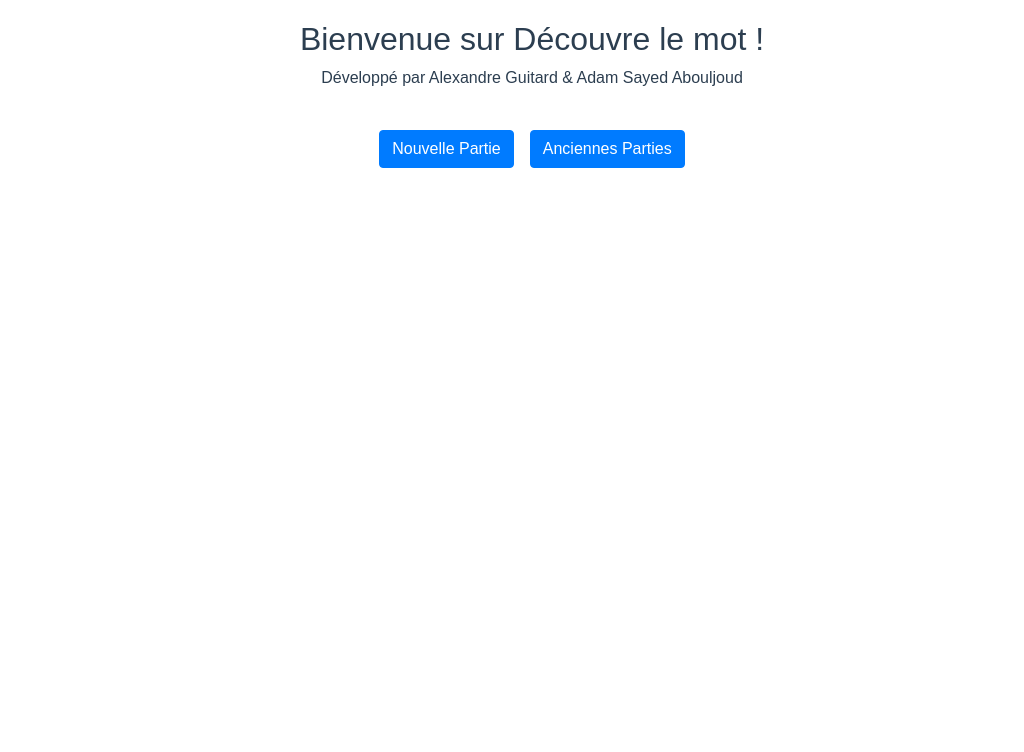
Make sure our todo list app is working well › Should show a defeat page
Click the button with id "newGame": (447, 149) [379, 130, 514, 168]
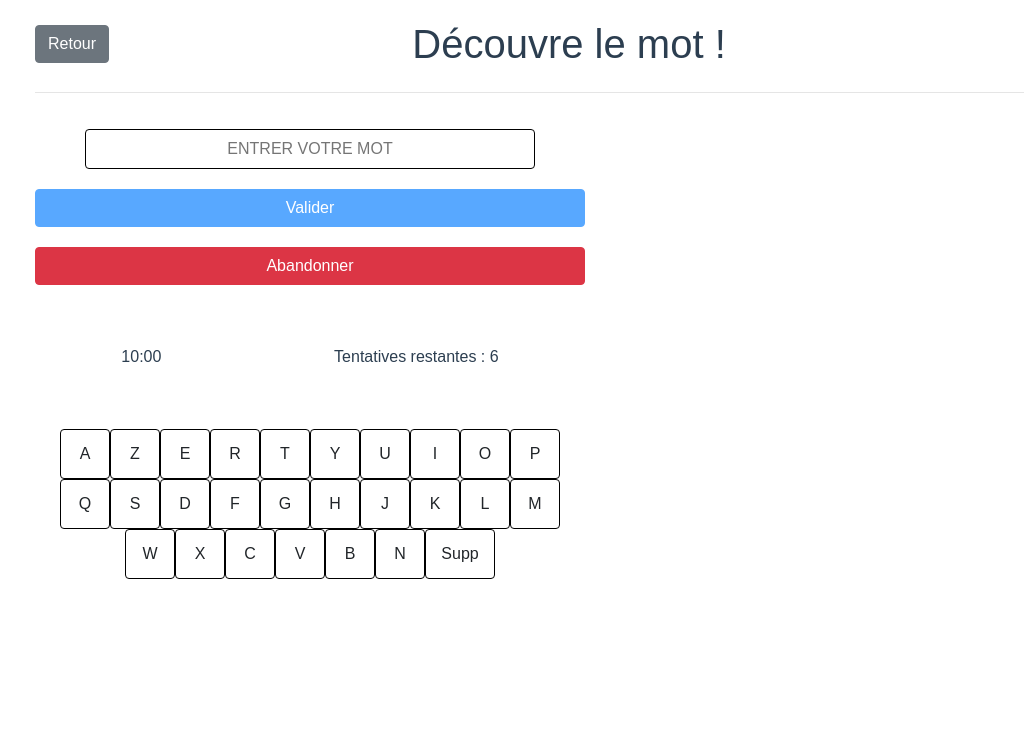
Click the button with id "btnAbandon": (310, 266) [35, 247, 585, 285]
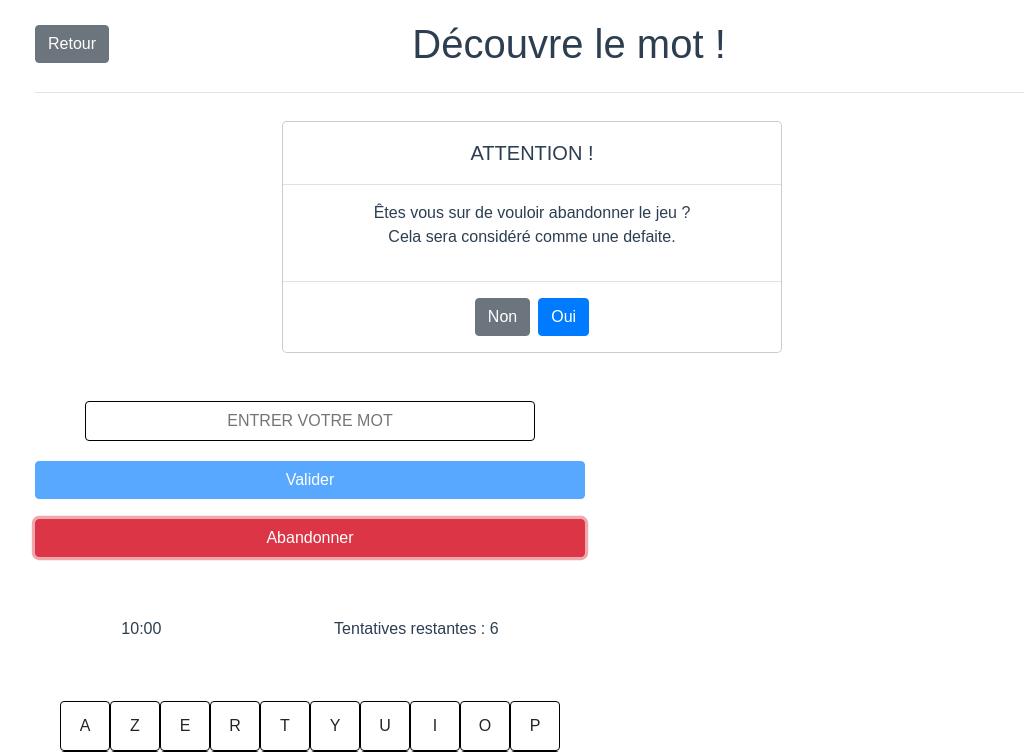
Click the button with id "abandon": (564, 317) [538, 298, 589, 336]
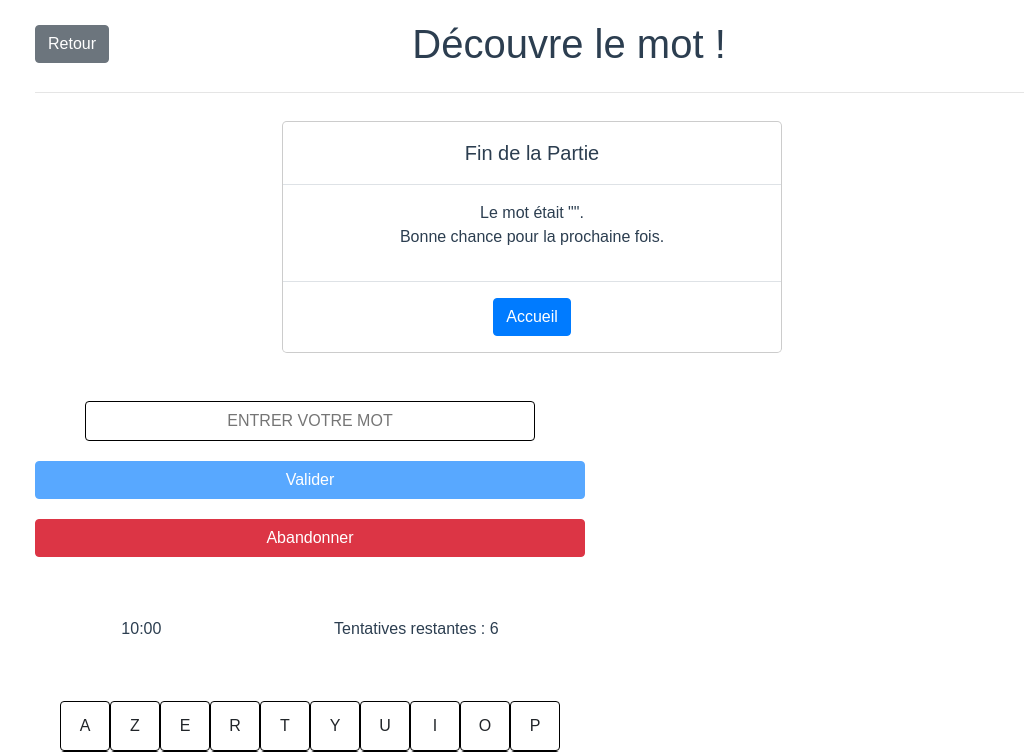
Expected: the dialog with id "forfait" is shown, [282, 121, 782, 353]
